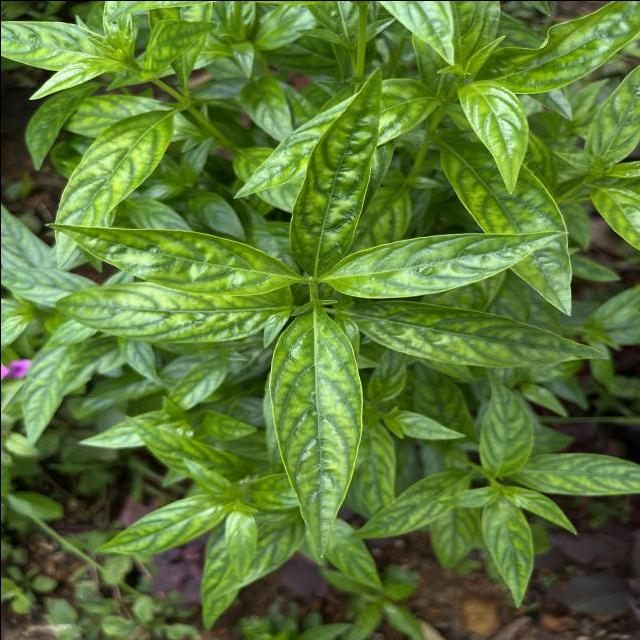Andrographis paniculata: (266, 302, 368, 562), (434, 136, 578, 318), (282, 64, 387, 278), (44, 105, 176, 262), (38, 220, 302, 295), (344, 300, 610, 369), (319, 229, 568, 302), (46, 280, 264, 346), (86, 491, 224, 563), (347, 465, 472, 544), (453, 82, 534, 190), (478, 496, 536, 610), (476, 370, 533, 480), (512, 450, 640, 497)
